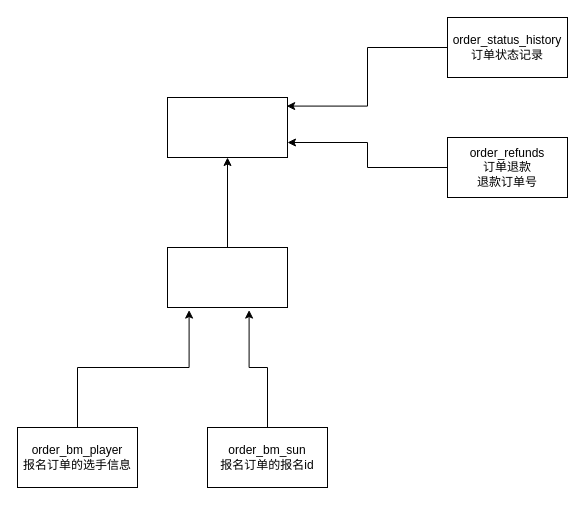
Image size: 585x505. Some labels were removed from this diagram. The box of each missing label's shape, as (x1, y1, x2, y2) in pixels:
order 订单信息 请求参数，响应参数，订单状态: (166, 96, 288, 158)
order_bm 报名订单信息 报名项目，报名数量: (166, 246, 288, 308)
